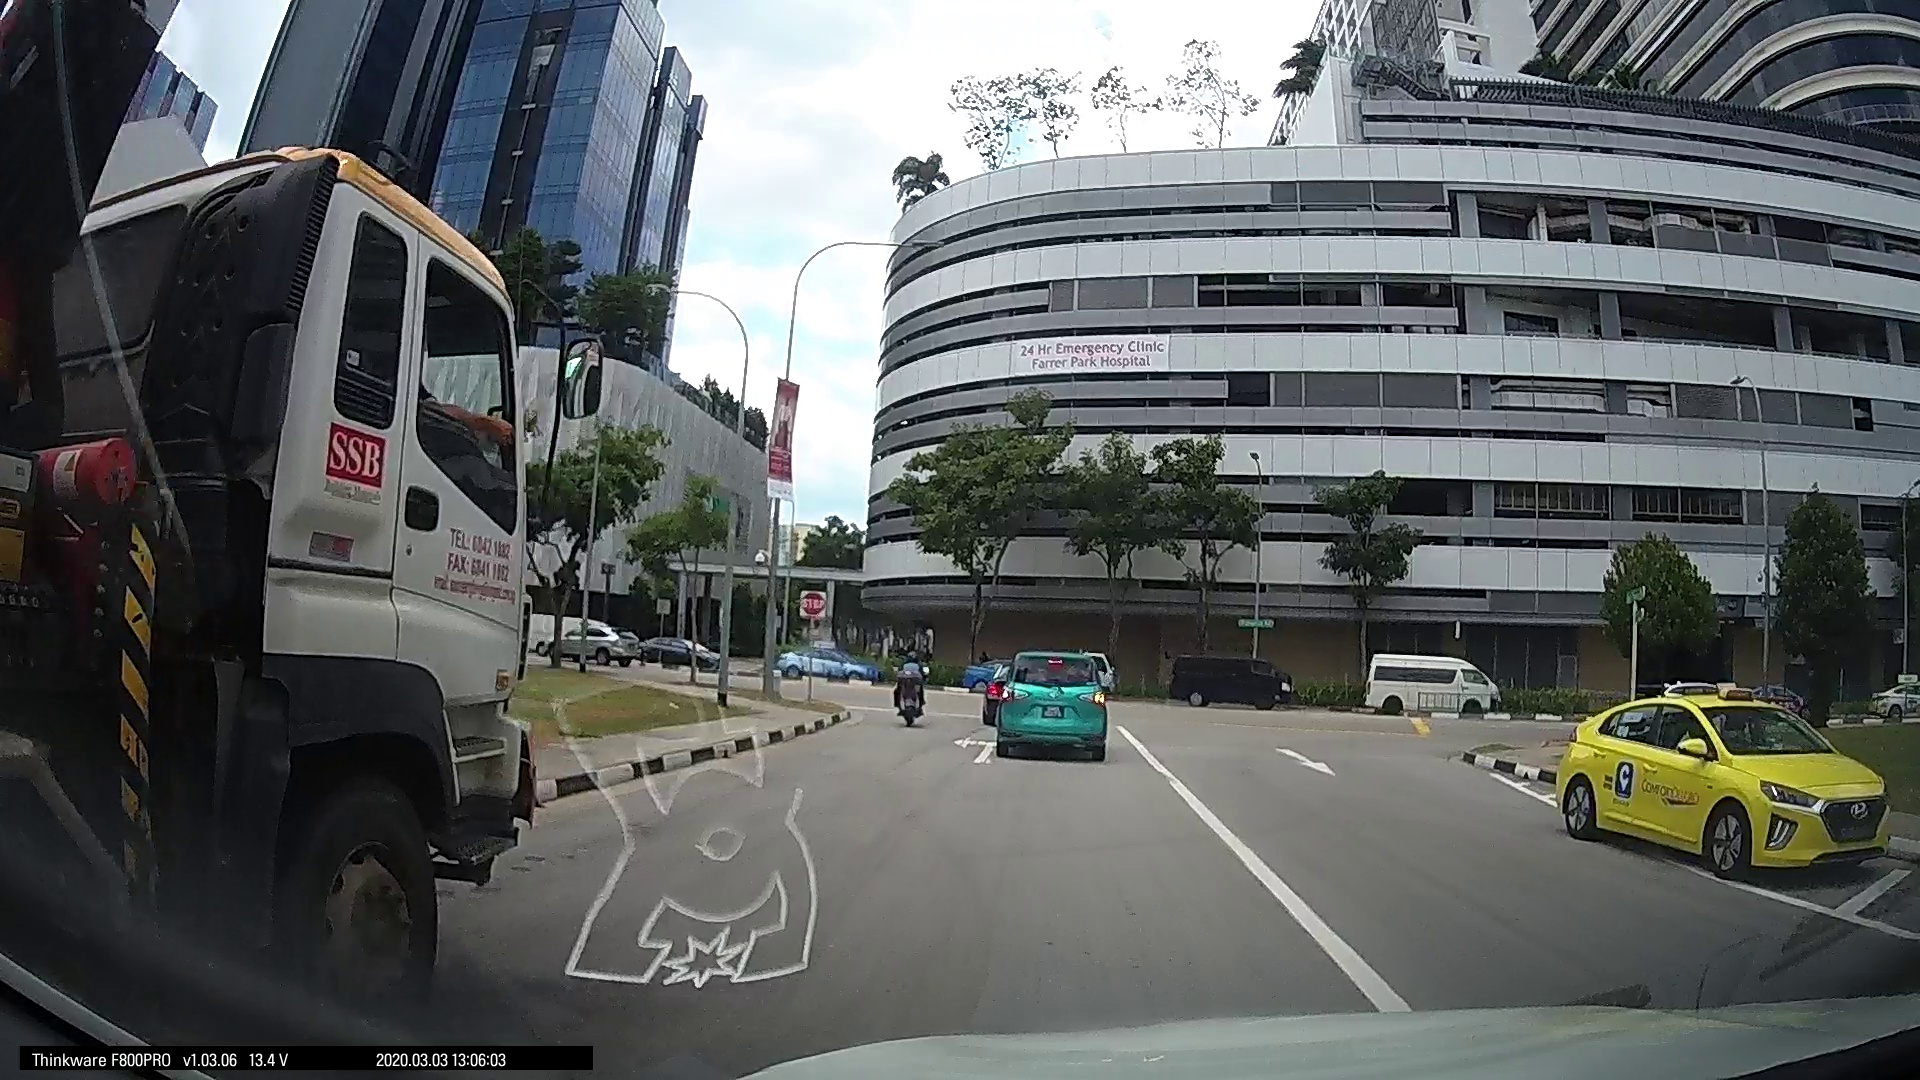Heavy Vehicle: (22, 116, 546, 986)
Light Vehicle: (1545, 683, 1903, 887), (986, 644, 1110, 760), (1348, 647, 1511, 717), (1166, 645, 1288, 707), (543, 617, 640, 667), (773, 640, 869, 684)
Motorcycle: (887, 644, 927, 723)
